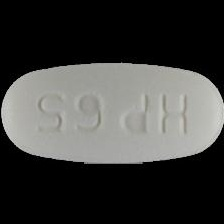61919-788: (0, 0, 224, 224)
